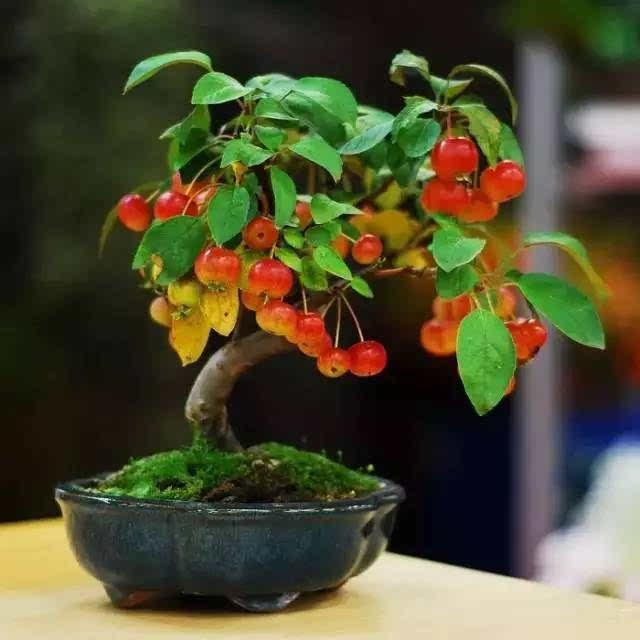apple: (193, 243, 240, 288), (480, 161, 528, 200), (431, 138, 479, 177), (251, 258, 292, 298), (242, 215, 279, 250), (349, 343, 387, 375), (258, 301, 296, 333), (350, 232, 382, 265)
